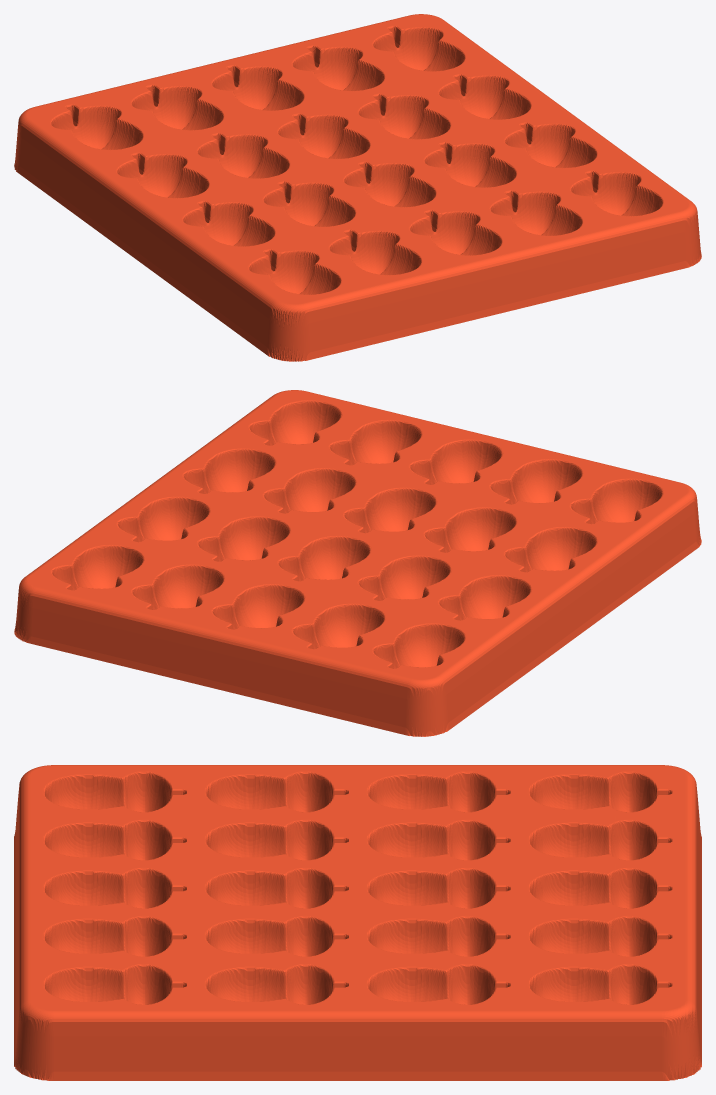
Rendered from mold.glb.
3 renders of one model, top to bottom at view 1: azimuth 30°, elevation 25°; view 2: azimuth 150°, elevation 25°; view 3: azimuth 270°, elevation 25°, orthographic. The views are drawn at different scales.
Parts seen in each view (by area): view 1: geometry_0; view 2: geometry_0; view 3: geometry_0.
Part boxes in pixels (x1,y1,x2,y2): geometry_0: (14, 14, 701, 361); geometry_0: (14, 390, 701, 736); geometry_0: (14, 765, 701, 1080).
Bounding box in the file's own units: 0.1387 × 0.0159 × 0.1563.
